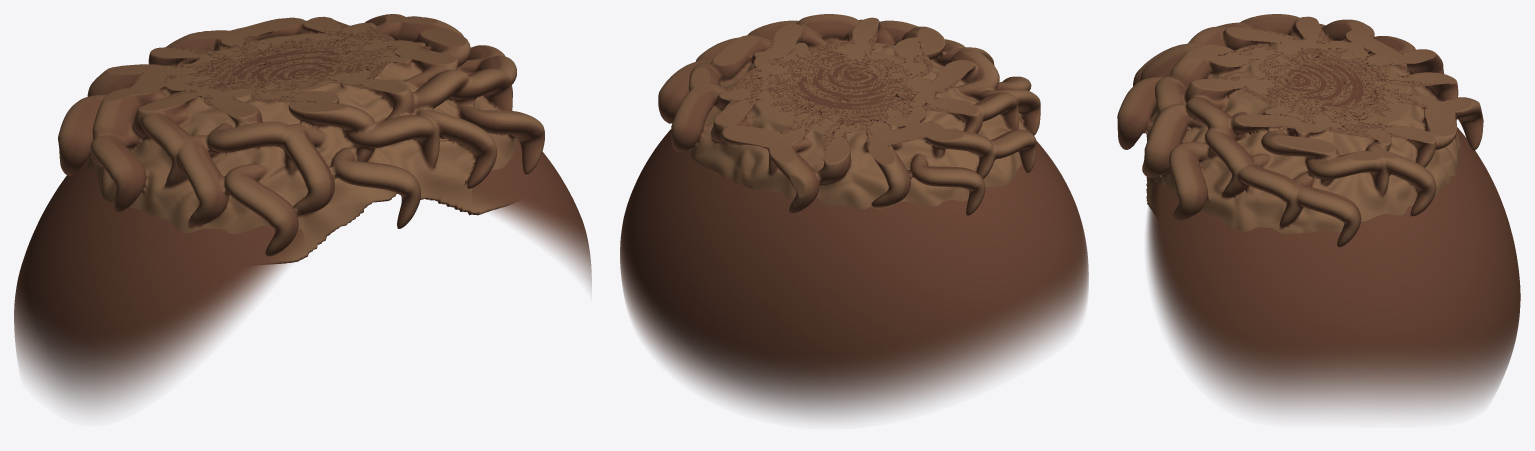
The model's file is Highlights-488d4d3bc975252-hair.glb.
3 renders of one model, left to right at view 1: azimuth 30°, elevation 25°; view 2: azimuth 150°, elevation 25°; view 3: azimuth 270°, elevation 25°, orthographic. The views are drawn at different scales.
Parts seen in each view (by area): view 1: 226 hair / Hair252 / sculpted curl groups.001, 226 hair / Hair252 / curly close fade coverage.001; view 2: 226 hair / Hair252 / curly close fade coverage.001, 226 hair / Hair252 / sculpted curl groups.001; view 3: 226 hair / Hair252 / curly close fade coverage.001, 226 hair / Hair252 / sculpted curl groups.001.
Boxes of the visible parts, x1,y1,x2,y2 form: 226 hair / Hair252 / sculpted curl groups.001: [58, 14, 544, 264]; 226 hair / Hair252 / curly close fade coverage.001: [14, 49, 591, 411]; 226 hair / Hair252 / curly close fade coverage.001: [620, 66, 1088, 419]; 226 hair / Hair252 / sculpted curl groups.001: [658, 14, 1040, 215]; 226 hair / Hair252 / curly close fade coverage.001: [1146, 62, 1520, 414]; 226 hair / Hair252 / sculpted curl groups.001: [1117, 14, 1483, 247].
Bounding box in the file's own units: 0.976 × 0.673 × 0.762.
Materials: 2 (2 with a texture image).
